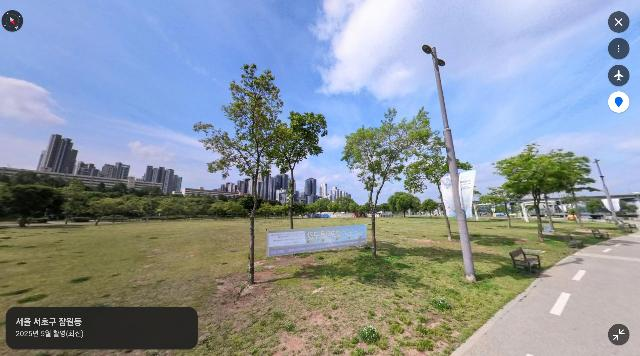other: (193, 63, 287, 286), (340, 106, 443, 259), (492, 142, 602, 240), (268, 110, 328, 230), (404, 158, 464, 241), (0, 180, 59, 227), (60, 184, 89, 225), (115, 194, 150, 223), (87, 194, 117, 226), (387, 191, 419, 217), (321, 197, 358, 218), (204, 197, 231, 222)
